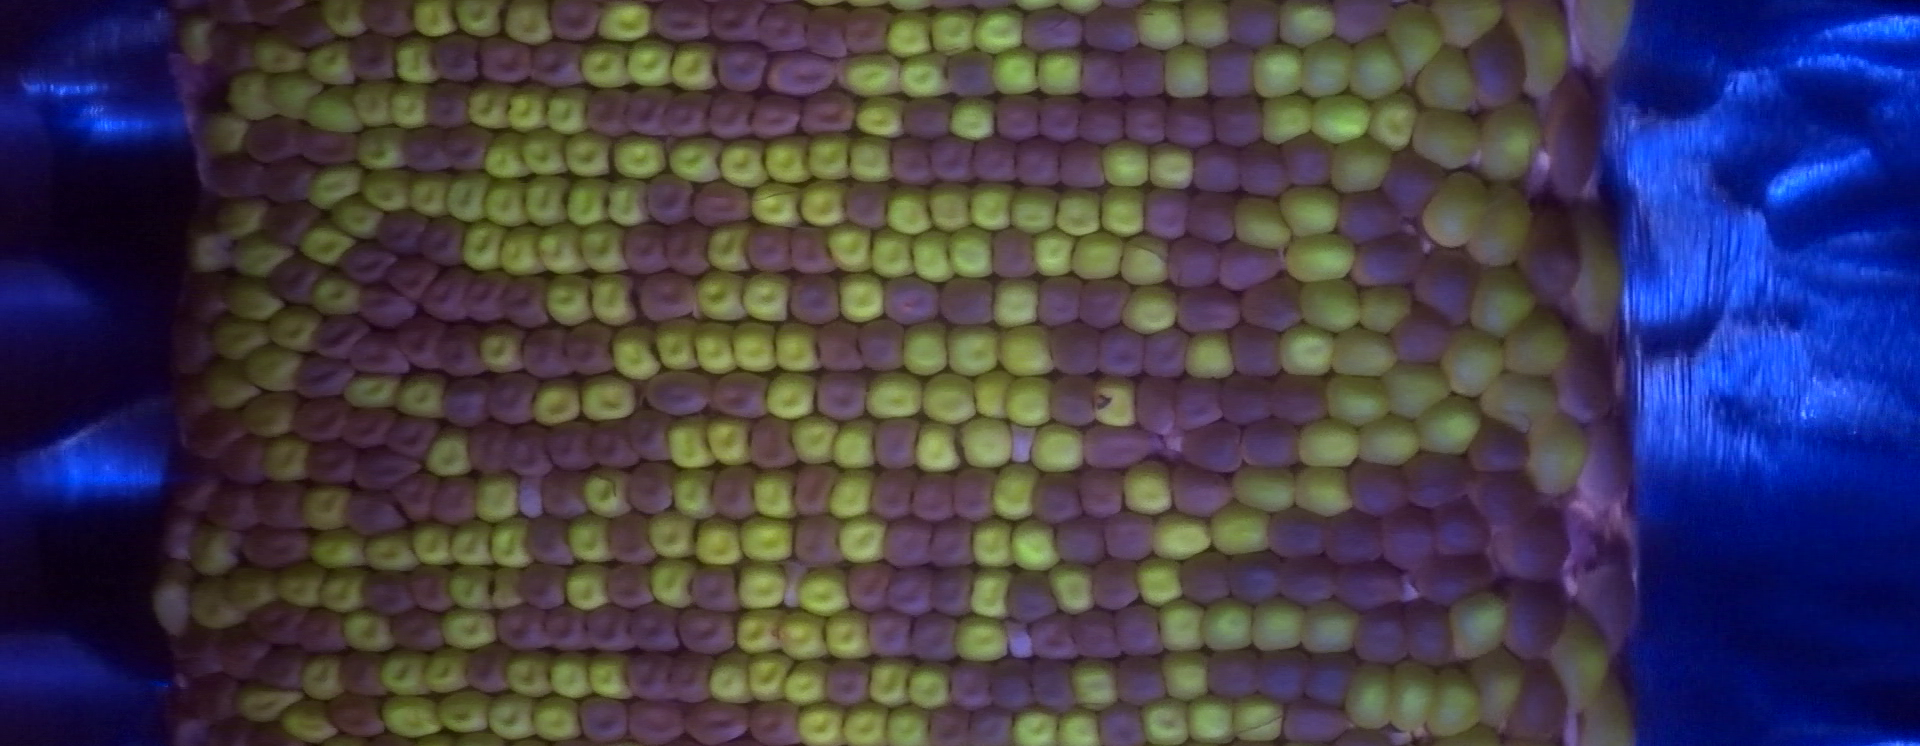fluorescent: (1562, 202, 1635, 341), (1540, 601, 1616, 717), (1495, 1, 1577, 102), (1471, 92, 1549, 189), (1520, 405, 1593, 502), (1416, 164, 1493, 254), (1494, 300, 1581, 379), (1466, 261, 1545, 345), (1466, 175, 1532, 274), (1458, 644, 1531, 733), (1561, 1, 1641, 78), (1435, 320, 1512, 399), (1473, 369, 1566, 434), (1442, 586, 1520, 663), (1408, 100, 1488, 173), (1382, 2, 1449, 88), (1411, 38, 1483, 114), (1573, 669, 1644, 746), (1420, 665, 1488, 744), (1409, 393, 1488, 459), (1376, 360, 1456, 424), (1340, 657, 1403, 735), (1319, 367, 1398, 430), (146, 555, 200, 644), (991, 318, 1064, 383), (1327, 323, 1412, 380), (1386, 652, 1441, 737), (1353, 405, 1424, 472), (1292, 274, 1367, 337), (1273, 318, 1348, 381), (234, 386, 315, 443), (1227, 190, 1299, 254), (1287, 456, 1360, 518), (1021, 416, 1097, 477), (1207, 496, 1278, 560), (1278, 230, 1360, 285), (1346, 31, 1408, 103), (1275, 180, 1347, 243), (388, 363, 460, 425), (1327, 136, 1400, 197), (195, 355, 269, 414), (1424, 1, 1507, 54), (529, 216, 596, 281), (605, 321, 672, 386), (1226, 461, 1307, 514), (1114, 456, 1180, 521), (1296, 598, 1363, 661), (369, 688, 448, 742), (735, 510, 804, 571), (1305, 88, 1376, 148), (1291, 414, 1363, 473), (1296, 34, 1360, 99), (1005, 511, 1071, 575), (238, 338, 312, 394), (185, 573, 253, 635), (1149, 506, 1218, 566), (419, 420, 484, 484), (1248, 593, 1313, 657), (1199, 590, 1259, 659), (222, 230, 302, 281), (1244, 38, 1310, 99), (1365, 88, 1427, 154), (939, 318, 1007, 379), (898, 315, 958, 382), (791, 561, 860, 620), (207, 310, 282, 364), (1117, 281, 1188, 337), (261, 300, 332, 356), (835, 45, 907, 100), (785, 409, 849, 472), (1150, 593, 1211, 658), (231, 676, 309, 728), (260, 66, 327, 125), (860, 365, 927, 424), (827, 415, 890, 477), (661, 409, 722, 473), (982, 271, 1047, 331), (767, 316, 834, 374), (649, 314, 707, 381), (253, 429, 321, 486), (1111, 230, 1179, 287), (220, 274, 291, 328), (1356, 281, 1418, 342), (1042, 559, 1104, 620), (482, 685, 545, 746), (689, 266, 753, 326), (1067, 653, 1127, 717), (184, 519, 247, 579), (573, 217, 638, 276), (950, 611, 1015, 670), (1227, 690, 1294, 746), (1272, 1, 1346, 53), (359, 526, 427, 581), (277, 692, 347, 746), (699, 410, 760, 472), (585, 269, 645, 332), (1087, 370, 1147, 432), (1153, 643, 1213, 706), (988, 459, 1047, 523), (435, 603, 506, 655), (1003, 179, 1068, 236), (664, 461, 721, 526), (1254, 91, 1320, 147), (178, 222, 245, 277), (301, 159, 369, 214), (819, 220, 880, 281), (831, 265, 891, 326), (1000, 370, 1060, 431), (497, 643, 558, 703), (724, 316, 782, 379), (468, 467, 525, 530), (579, 462, 637, 526), (302, 81, 367, 137), (1131, 552, 1196, 609), (747, 461, 802, 527), (705, 643, 760, 709), (574, 371, 643, 424), (920, 367, 980, 428), (831, 510, 891, 570), (735, 269, 793, 331), (773, 608, 834, 666), (642, 503, 704, 561), (1180, 688, 1243, 746), (744, 175, 808, 232), (940, 225, 1004, 282), (295, 480, 359, 537), (562, 167, 617, 232), (954, 414, 1020, 468), (539, 271, 598, 331), (564, 510, 623, 570), (961, 563, 1020, 624), (298, 218, 366, 269), (688, 513, 751, 570), (527, 690, 589, 746), (905, 225, 960, 289), (760, 370, 824, 425), (822, 462, 877, 526), (664, 132, 729, 186), (688, 314, 742, 379), (217, 560, 282, 614), (433, 687, 504, 736), (516, 174, 576, 232), (470, 318, 530, 376), (484, 514, 541, 575), (967, 513, 1025, 573), (1158, 40, 1215, 102), (271, 557, 332, 614), (576, 36, 638, 91), (1068, 228, 1131, 282), (327, 191, 392, 244), (249, 26, 315, 77), (762, 129, 819, 187), (878, 179, 937, 236), (644, 554, 702, 612), (822, 608, 879, 666), (376, 642, 435, 699), (1095, 132, 1155, 189), (988, 44, 1049, 99), (896, 45, 958, 100), (191, 107, 260, 156), (849, 92, 912, 145), (306, 267, 370, 320), (1049, 183, 1107, 240), (460, 77, 519, 134), (222, 67, 282, 122), (718, 134, 773, 194), (793, 176, 853, 232), (496, 222, 551, 282), (296, 650, 356, 706), (355, 164, 422, 213), (299, 36, 361, 88), (605, 134, 673, 181), (666, 38, 722, 96), (440, 168, 496, 225), (1093, 183, 1150, 240), (528, 375, 584, 432), (403, 516, 460, 572), (1133, 1, 1191, 56), (541, 82, 596, 141), (862, 657, 921, 712), (338, 367, 411, 412), (945, 91, 1005, 145), (516, 125, 576, 179), (478, 130, 538, 184), (965, 176, 1019, 236), (1135, 692, 1195, 746), (481, 171, 534, 233), (730, 606, 792, 658), (742, 648, 793, 710), (302, 523, 371, 570), (863, 224, 920, 281), (882, 6, 939, 61), (1031, 47, 1089, 102), (622, 34, 680, 89), (802, 127, 860, 183), (1180, 326, 1238, 381), (909, 415, 964, 473), (421, 641, 476, 698), (386, 34, 444, 88), (502, 77, 556, 136), (560, 127, 618, 181), (732, 559, 792, 611), (211, 194, 284, 236), (922, 181, 978, 236), (560, 559, 616, 614), (456, 217, 509, 274), (905, 655, 958, 714), (836, 695, 896, 746), (444, 560, 500, 615), (542, 648, 596, 704), (971, 5, 1029, 58), (846, 127, 899, 185), (339, 608, 400, 657), (969, 365, 1016, 428), (405, 167, 460, 220), (447, 514, 501, 570), (602, 171, 654, 229), (582, 650, 639, 702), (593, 1, 659, 45), (929, 5, 983, 59), (702, 220, 756, 274), (779, 657, 834, 709), (793, 696, 851, 746), (354, 126, 418, 171), (1145, 138, 1199, 191), (1029, 225, 1080, 281), (387, 76, 436, 134), (1007, 701, 1068, 746), (316, 563, 369, 616), (171, 11, 220, 67), (351, 77, 400, 134), (1180, 1, 1234, 51), (501, 1, 557, 48), (1051, 704, 1108, 746), (879, 703, 934, 746), (485, 562, 530, 614), (453, 1, 509, 40), (320, 1, 371, 42), (408, 1, 460, 40)
nonfluorescent: (1575, 560, 1642, 661), (1544, 75, 1593, 198), (1490, 514, 1567, 583), (1586, 409, 1637, 511), (1504, 577, 1566, 659), (1560, 326, 1610, 420), (1466, 23, 1524, 102), (1524, 218, 1573, 307), (1400, 443, 1466, 510), (1417, 247, 1477, 318), (1500, 661, 1559, 734), (1352, 600, 1411, 668), (1413, 556, 1490, 606), (1469, 467, 1533, 524), (1384, 148, 1436, 216), (1353, 234, 1420, 285), (1172, 461, 1232, 514), (1395, 305, 1450, 363), (249, 481, 309, 533), (1407, 598, 1453, 664), (1082, 425, 1158, 465), (421, 267, 475, 323), (1183, 419, 1242, 470), (181, 405, 242, 454), (266, 256, 328, 304), (1382, 510, 1438, 563), (1349, 458, 1402, 514), (1340, 189, 1397, 240), (1242, 279, 1303, 327), (1269, 508, 1325, 560), (349, 331, 409, 379), (638, 272, 697, 320), (1227, 326, 1282, 376), (1178, 284, 1237, 331), (1333, 562, 1392, 609), (291, 393, 343, 446), (1326, 514, 1380, 565), (647, 372, 711, 414), (354, 447, 419, 489), (749, 416, 798, 472), (1474, 414, 1522, 470), (1237, 142, 1287, 195), (678, 601, 732, 650), (793, 271, 840, 327), (273, 4, 331, 49), (947, 48, 997, 99), (1210, 96, 1262, 145), (204, 481, 257, 530), (1116, 603, 1164, 655), (216, 624, 264, 676), (294, 126, 358, 167), (463, 269, 511, 323), (929, 562, 977, 616), (1180, 548, 1228, 601), (1209, 42, 1255, 97), (1032, 468, 1079, 523), (796, 511, 842, 566), (954, 465, 998, 523), (1280, 136, 1330, 186), (769, 58, 838, 94), (242, 118, 301, 160), (1434, 501, 1485, 550), (442, 374, 490, 426), (1031, 614, 1084, 661), (1331, 2, 1397, 40), (1190, 189, 1237, 243), (816, 372, 869, 419), (1223, 244, 1280, 288), (181, 677, 238, 722), (1164, 94, 1213, 145), (1051, 326, 1100, 376), (588, 418, 637, 468), (883, 562, 932, 612), (520, 327, 568, 379), (1080, 274, 1127, 327), (1254, 653, 1307, 699), (692, 183, 751, 224), (883, 281, 942, 322), (342, 490, 400, 532), (375, 208, 429, 254), (1275, 372, 1329, 418), (940, 281, 996, 325), (204, 21, 253, 70), (432, 34, 482, 82), (744, 223, 791, 274), (502, 274, 549, 326), (492, 369, 538, 421), (242, 527, 307, 563), (531, 40, 585, 85), (358, 287, 416, 327), (629, 407, 673, 461), (1244, 418, 1298, 462), (1008, 566, 1052, 620), (310, 317, 370, 356), (1171, 238, 1220, 285), (748, 92, 798, 138), (211, 152, 261, 198), (478, 36, 529, 81), (340, 240, 398, 281), (247, 600, 300, 644), (169, 317, 213, 370), (1284, 702, 1349, 737), (1304, 648, 1346, 703), (718, 43, 765, 91), (692, 565, 740, 612), (1040, 276, 1086, 325), (884, 516, 931, 565), (1021, 11, 1081, 49), (718, 372, 768, 418), (386, 258, 437, 303), (569, 321, 613, 372), (407, 561, 451, 612), (609, 510, 651, 562), (849, 560, 891, 612), (801, 88, 855, 130), (708, 92, 756, 138), (1096, 327, 1142, 375), (218, 435, 264, 483), (1057, 514, 1103, 562), (664, 653, 711, 699), (948, 659, 994, 707), (1209, 648, 1256, 695), (349, 34, 394, 83), (1087, 5, 1138, 49), (444, 124, 489, 174), (792, 464, 836, 514), (525, 519, 576, 563), (1075, 610, 1119, 660), (688, 702, 744, 741), (1078, 49, 1120, 100), (433, 475, 476, 527), (1095, 702, 1146, 745), (651, 1, 709, 39), (1138, 375, 1176, 432), (418, 216, 464, 262), (184, 269, 230, 316), (759, 6, 807, 51), (803, 6, 849, 54), (909, 475, 954, 523), (927, 518, 972, 566), (299, 605, 347, 650), (1078, 100, 1127, 145), (402, 126, 451, 170), (1060, 140, 1104, 189), (296, 355, 351, 394), (171, 472, 227, 511), (171, 628, 220, 673), (1116, 657, 1160, 706), (931, 134, 973, 184), (400, 318, 443, 369), (818, 320, 861, 370), (1078, 464, 1120, 514), (1123, 47, 1164, 98), (629, 85, 671, 136), (1176, 377, 1216, 430), (382, 413, 435, 453), (441, 322, 480, 376), (1053, 372, 1092, 426), (878, 418, 917, 472), (846, 9, 891, 55), (588, 89, 633, 136), (791, 228, 836, 274), (626, 650, 671, 697), (1222, 375, 1270, 419), (1095, 560, 1139, 608), (1018, 138, 1060, 187), (587, 604, 636, 647), (392, 608, 441, 650), (1147, 186, 1189, 236), (624, 223, 666, 273), (869, 608, 911, 658), (1284, 557, 1336, 598), (994, 96, 1040, 141), (427, 81, 471, 127), (636, 608, 682, 652), (992, 229, 1035, 277), (542, 467, 585, 514), (1106, 512, 1153, 555), (916, 611, 959, 659), (752, 701, 800, 744), (714, 464, 754, 514), (711, 2, 764, 40), (632, 704, 684, 742), (890, 138, 934, 184), (1229, 556, 1273, 601), (988, 661, 1032, 707), (389, 478, 436, 521), (1026, 660, 1069, 707), (1127, 97, 1168, 145), (264, 205, 318, 241), (344, 407, 393, 447), (255, 644, 304, 685), (864, 325, 909, 369), (522, 563, 566, 608), (667, 224, 710, 269), (609, 562, 651, 608), (342, 650, 387, 693), (1198, 145, 1239, 191), (632, 465, 671, 514), (845, 183, 889, 225), (471, 423, 508, 474), (509, 432, 553, 475), (549, 423, 593, 465), (873, 465, 910, 517), (827, 660, 869, 704), (1229, 2, 1275, 44), (464, 643, 506, 688), (305, 439, 351, 479), (576, 699, 624, 737), (360, 1, 414, 36), (266, 160, 316, 197), (906, 94, 950, 136), (367, 571, 409, 615), (649, 176, 688, 223), (498, 605, 542, 646), (331, 697, 384, 730), (1145, 332, 1184, 376), (1037, 99, 1078, 141), (973, 141, 1016, 179), (547, 2, 595, 36), (928, 704, 967, 741), (672, 93, 707, 135), (550, 604, 584, 646), (971, 713, 1013, 741)
